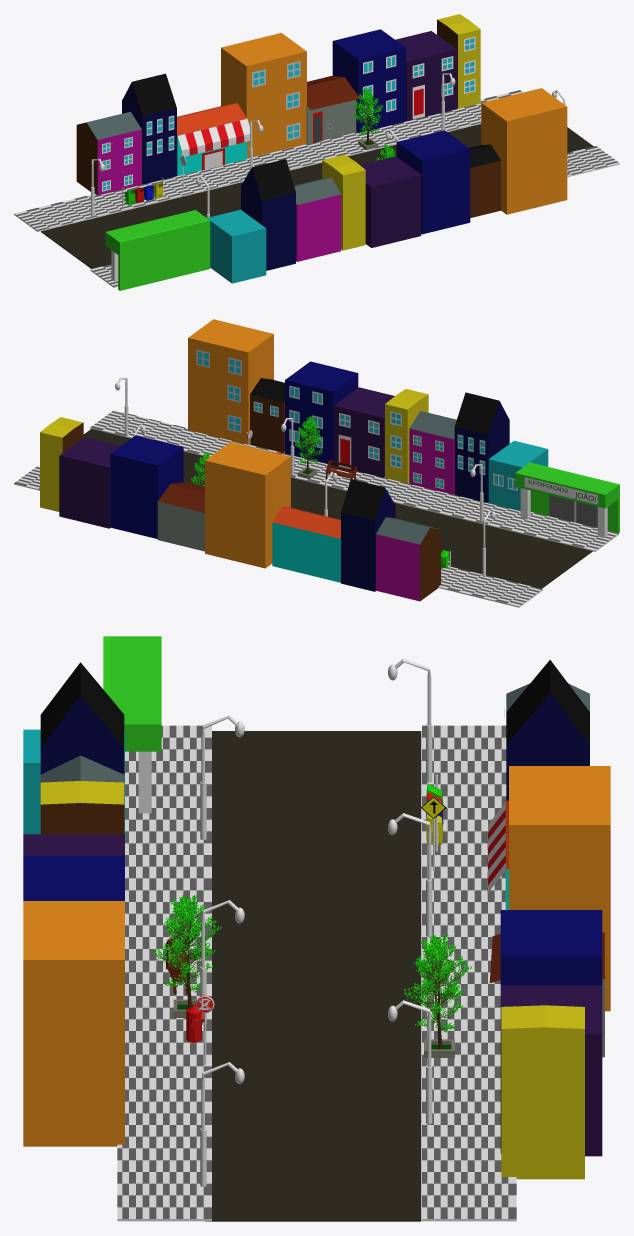
The model's file is cenario1.fbx.
3 views of the same model, one above another, from view 1: azimuth 30°, elevation 25°; view 2: azimuth 150°, elevation 25°; view 3: azimuth 270°, elevation 25° (orthographic). The views are drawn at different scales.
Visible parts, largest first — view 1: Cube.001, Cube.014, Cube.031, Cube, Cube.016, Cube.027, Cube.010, Cube.017, Cube.020, Cube.033, Cube.034, Cube.021 (+13 smaller); view 2: Cube, Cube.002, Cube.031, Cube.014, Cube.027, Cube.033, Cube.030, Cube.028, Cube.034, Cube.016, Cube.020, Cube.017 (+13 smaller); view 3: Cube, Cube.002, Cube.001, Cube.014, Cube.031, Cube.029, Cube.027, Cube.034, Cube.020, Cube.011, Cube.028, Cube.016 (+14 smaller).
Part boxes in pixels (bbox=[...]): Cube.001: bbox=[14, 90, 522, 231]; Cube.014: bbox=[481, 88, 567, 214]; Cube.031: bbox=[221, 33, 306, 158]; Cube: bbox=[41, 124, 593, 268]; Cube.016: bbox=[396, 130, 470, 234]; Cube.027: bbox=[332, 29, 405, 133]; Cube.010: bbox=[118, 219, 210, 290]; Cube.017: bbox=[360, 156, 421, 247]; Cube.020: bbox=[241, 159, 295, 270]; Cube.033: bbox=[76, 111, 141, 195]; Cube.034: bbox=[122, 73, 176, 184]; Cube.021: bbox=[207, 209, 266, 283]; Cube: bbox=[83, 429, 592, 588]; Cube.002: bbox=[90, 410, 618, 551]; Cube.031: bbox=[205, 442, 290, 568]; Cube.014: bbox=[188, 319, 273, 444]; Cube.027: bbox=[110, 435, 183, 538]; Cube.033: bbox=[376, 517, 440, 601]; Cube.030: bbox=[272, 506, 340, 582]; Cube.028: bbox=[59, 437, 120, 528]; Cube.034: bbox=[341, 479, 395, 591]; Cube.016: bbox=[285, 361, 358, 464]; Cube.020: bbox=[454, 392, 509, 503]; Cube.017: bbox=[333, 387, 394, 477]; Cube: bbox=[205, 731, 421, 1221]; Cube.002: bbox=[117, 725, 211, 1221]; Cube.001: bbox=[422, 725, 516, 1221]; Cube.014: bbox=[23, 901, 124, 1146]; Cube.031: bbox=[509, 766, 610, 1011]; Cube.029: bbox=[501, 1005, 584, 1179]; Cube.027: bbox=[500, 910, 602, 985]; Cube.034: bbox=[506, 660, 589, 800]; Cube.020: bbox=[40, 662, 124, 774]; Cube.011: bbox=[110, 636, 161, 751]; Cube.028: bbox=[500, 985, 602, 1156]; Cube.016: bbox=[23, 855, 124, 900].
Bounding box in the file's own units: 12434 × 2306 × 6261.
